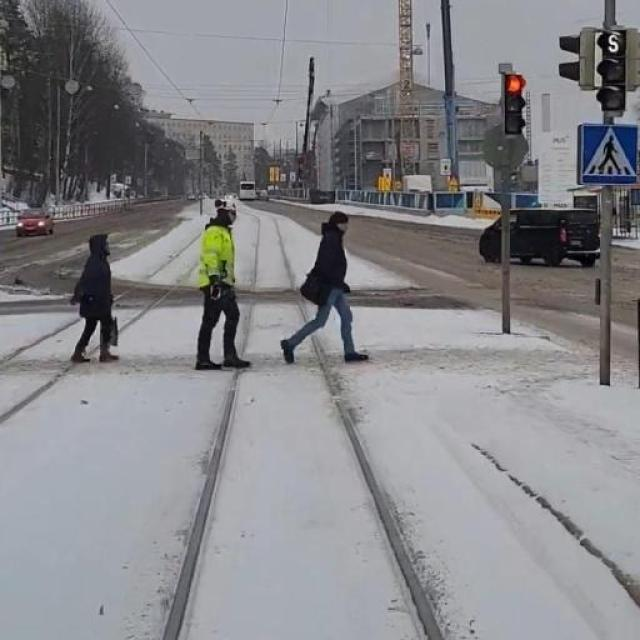people: (279, 199, 371, 370), (192, 195, 252, 378), (72, 228, 132, 370)
